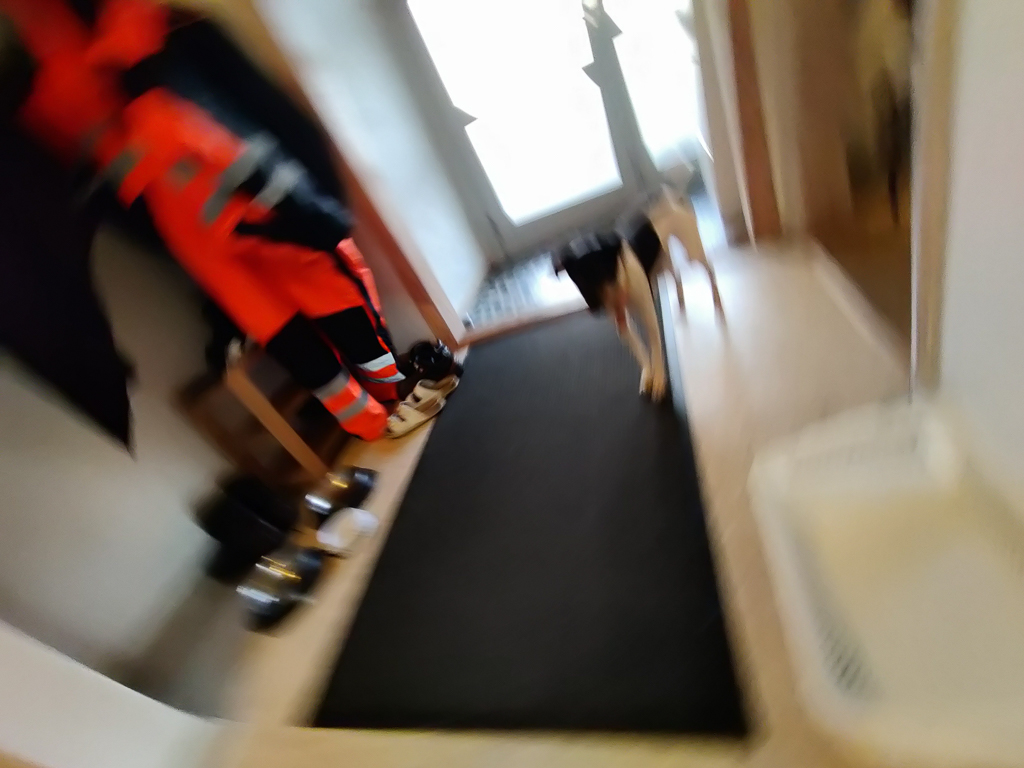Dog: (529, 133, 748, 411)
